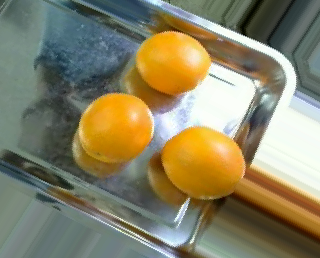Orange: (159, 124, 244, 200), (78, 92, 153, 163), (136, 29, 210, 93)
